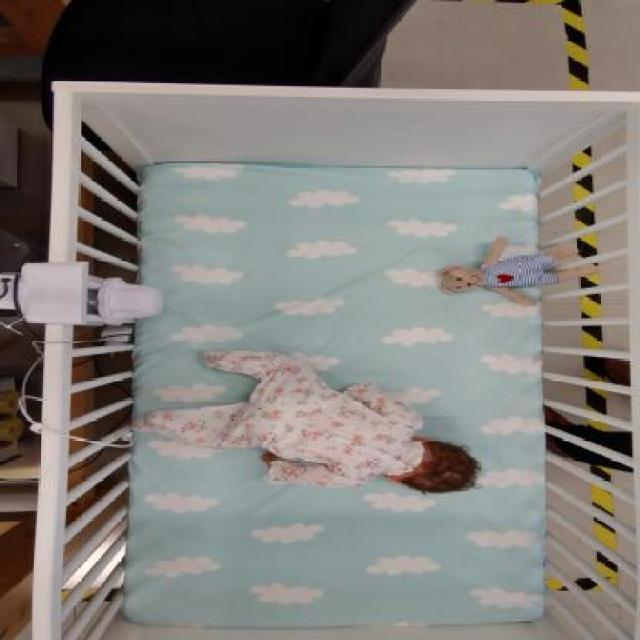baby: (134, 347, 482, 497)
